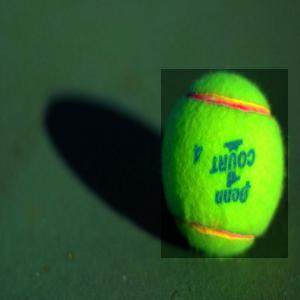TennisBall: (163, 71, 291, 261)
